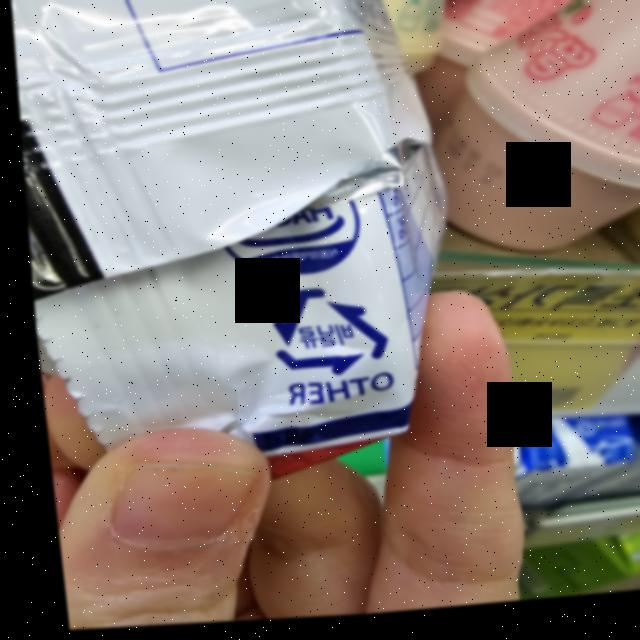Vinyl: (255, 283, 389, 387)
